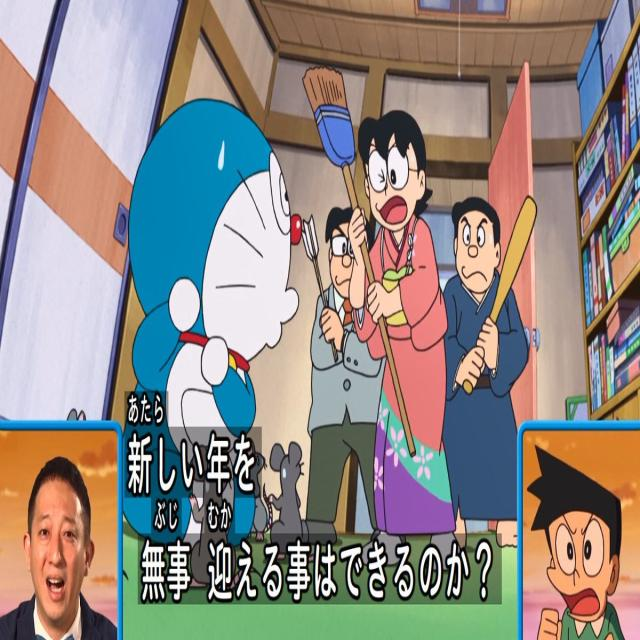doraemon: (124, 83, 311, 450)
suneo: (518, 434, 630, 639)
